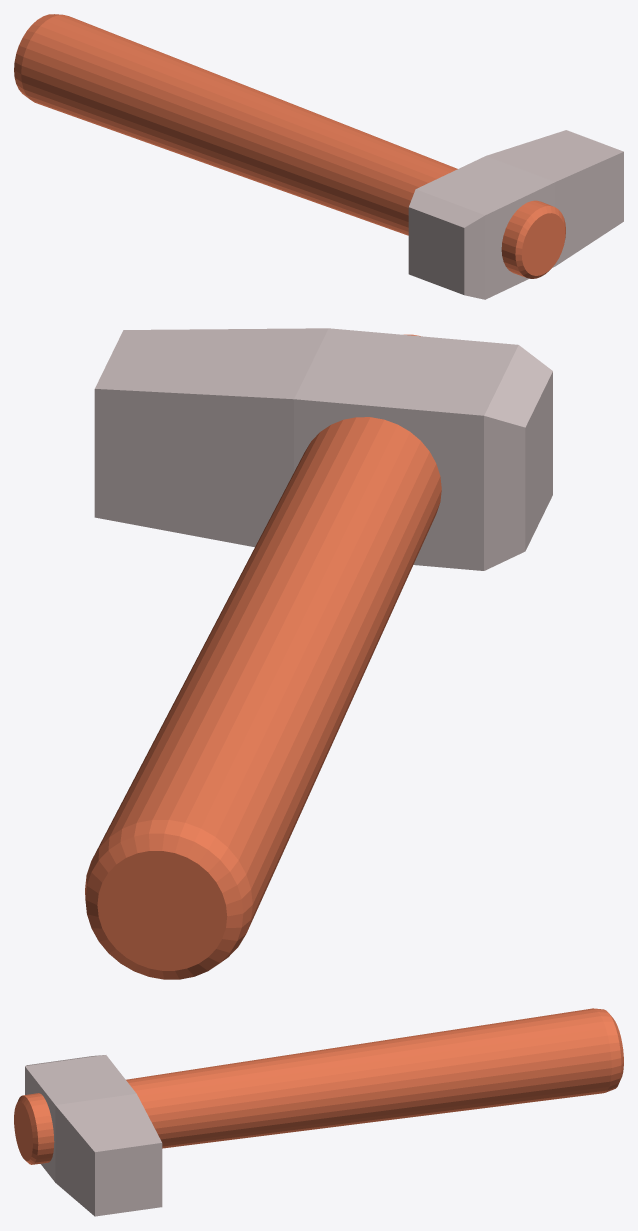
Rendered from hammer.glb.
3 views of the same model, one above another, from view 1: azimuth 30°, elevation 25°; view 2: azimuth 150°, elevation 25°; view 3: azimuth 270°, elevation 25° (orthographic). The views are drawn at different scales.
Parts seen in each view (by area): view 1: Griff, Klotz; view 2: Griff, Klotz; view 3: Griff, Klotz.
Part boxes in pixels (x1,y1,x2,y2): Griff: (14,14,565,278); Klotz: (408,130,623,299); Griff: (85,334,441,979); Klotz: (94,328,552,570); Griff: (14,1008,623,1164); Klotz: (25,1055,162,1216).
Size of the model in its own units: 3.29 by 0.7904 by 5.6.
